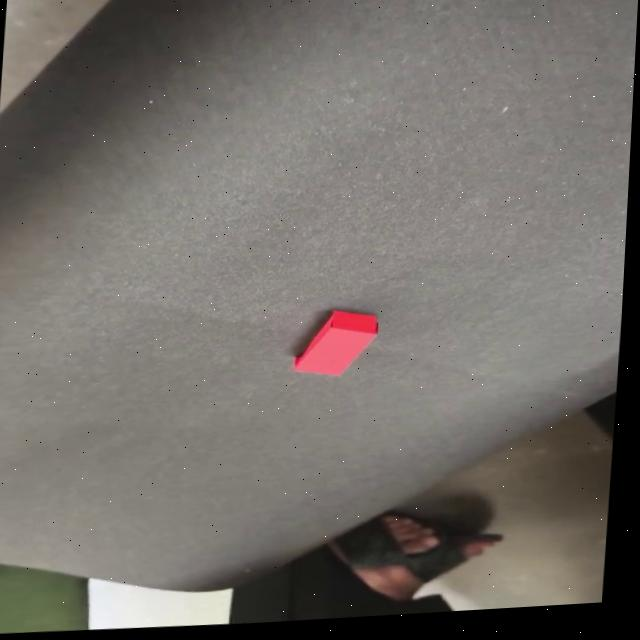red block: (291, 306, 380, 379)
